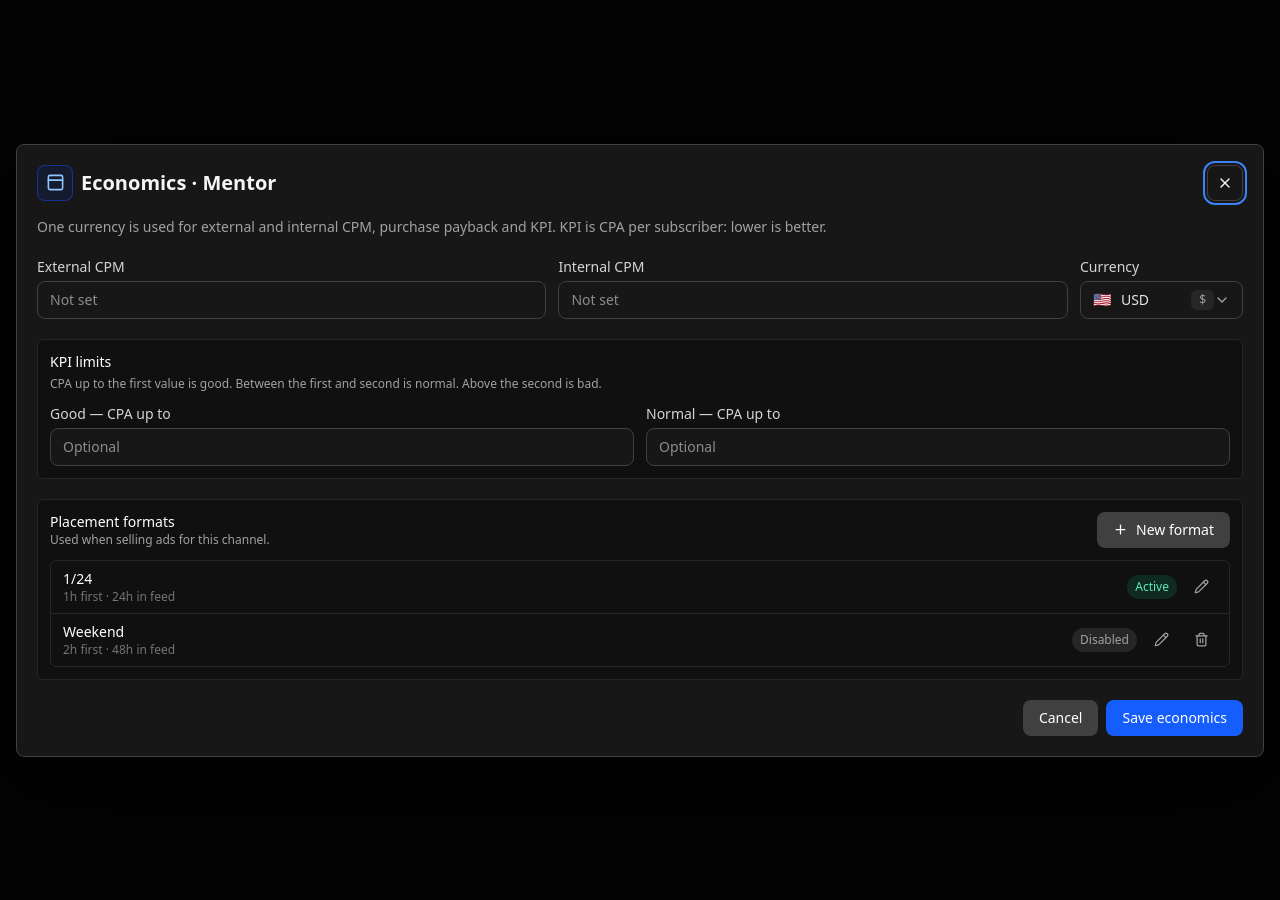
Scenario: ChannelEconomicsSummary › loads placement formats only inside economics and exposes compact management actions
Check: the heading "Placement formats" is shown, box [50,512,175,530]
Check: the text "1/24" is shown, box [63,568,92,588]
What coordinates should you click on to do the following:
click the button with aria-label "Enable Weekend"
I would click on:
 (1104, 640)
Its box is [1072,628,1137,652].
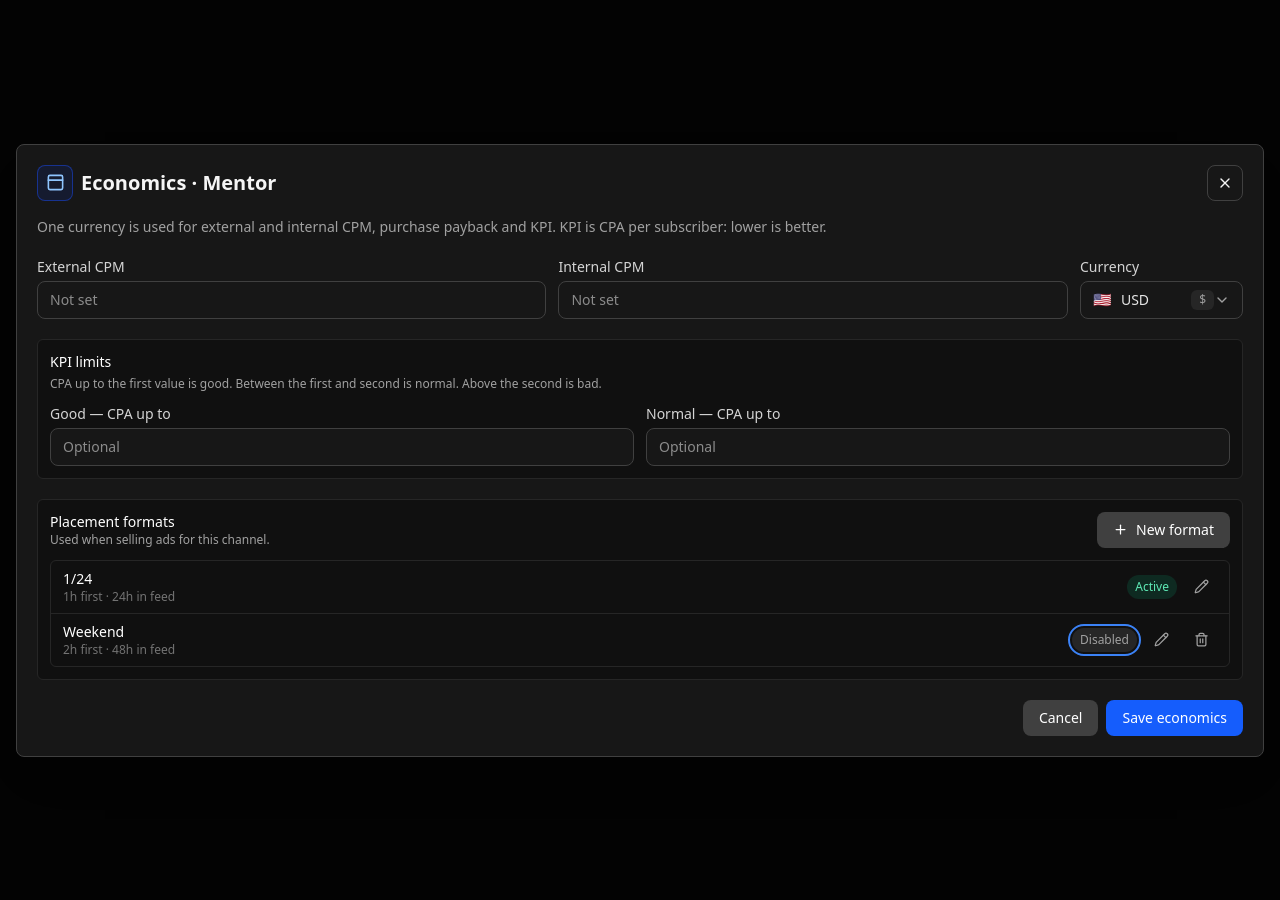
What coordinates should you click on to do the following:
click the button named "Edit Weekend"
I would click on:
 (1161, 640)
Its box is [1145,624,1177,656].
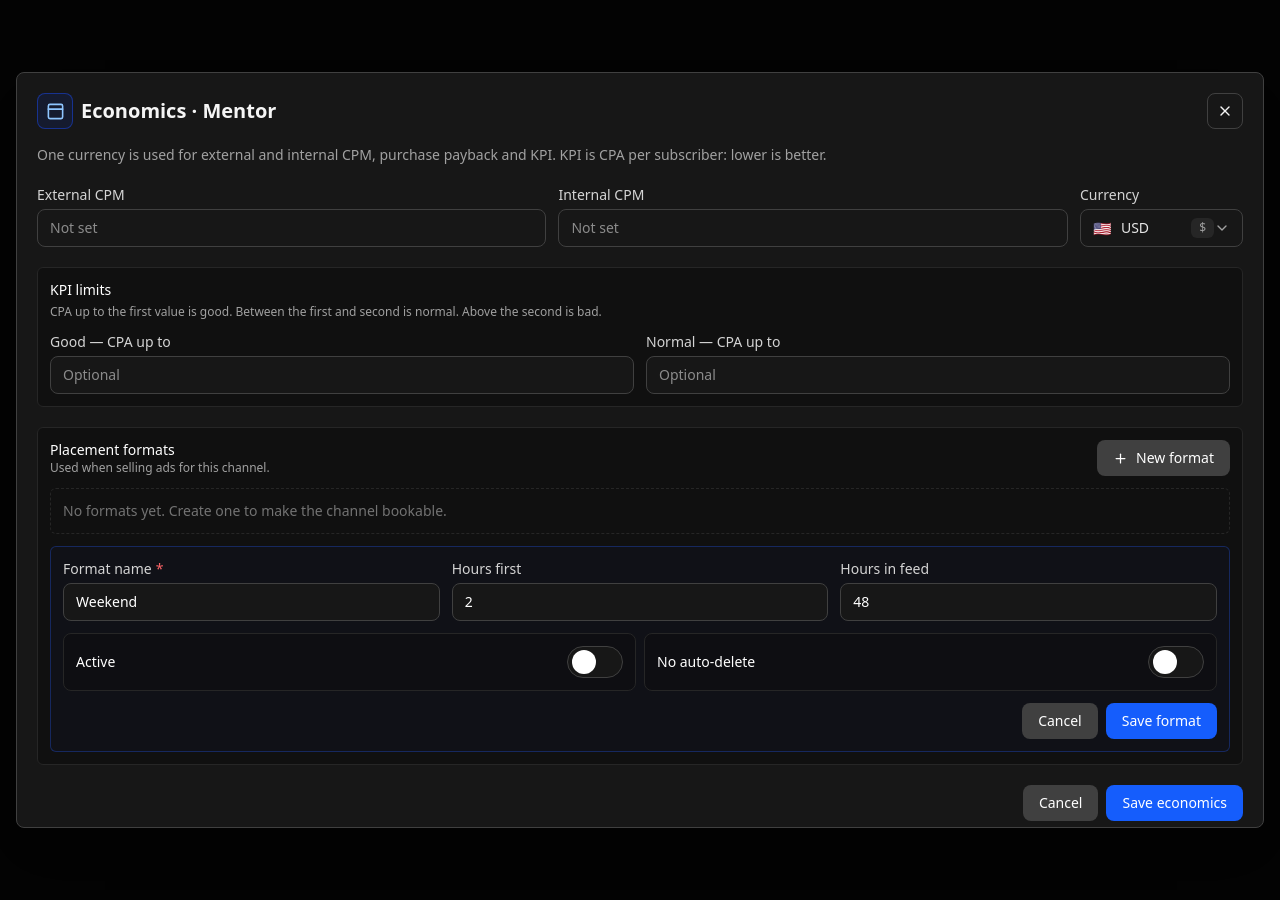
Check: the field showing "Weekend" below "Format name" is shown, box [63,583,440,621]
What coordinates should you click on to do the following:
click the button "New format"
I would click on:
 (1164, 458)
Its box is [1097,440,1230,476].
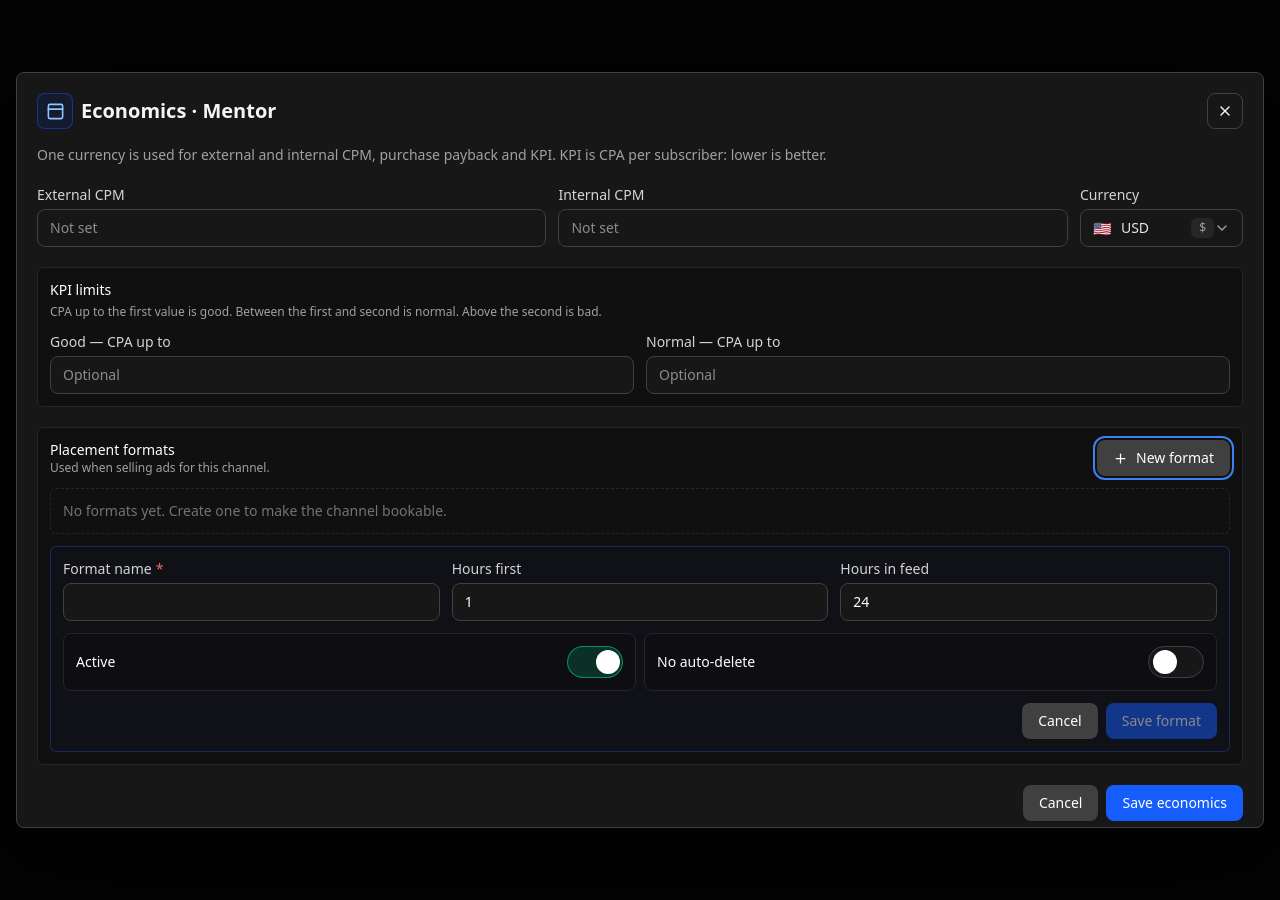
Check: the button "Save format" is disabled, box [1106,703,1217,739]
